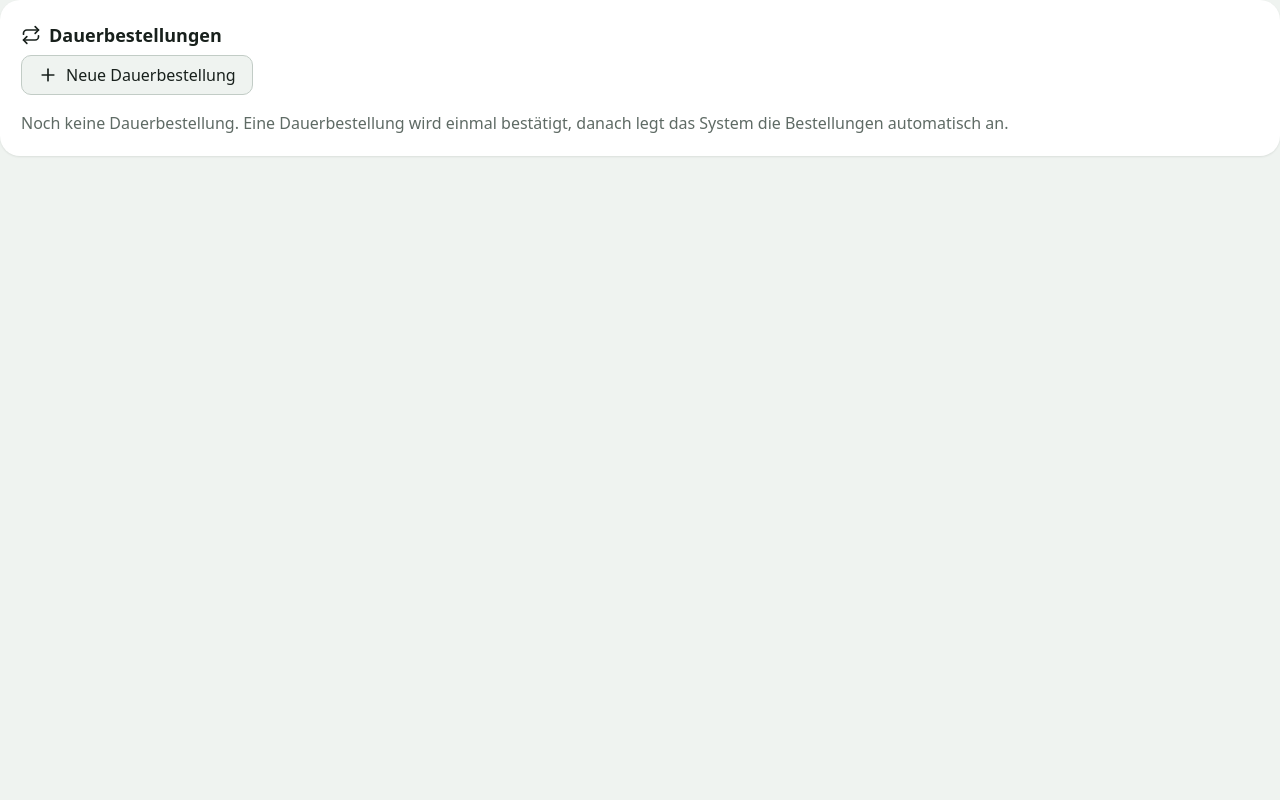
Test case: RecurringOrdersCard (NUD-149, NUD-171) › refuses a rule without any delivery day and names the monthly pattern as the way out
The image size is (1280, 800).
Click the button with test id "recurring-new". click: (137, 75)
box: [21, 55, 253, 95]
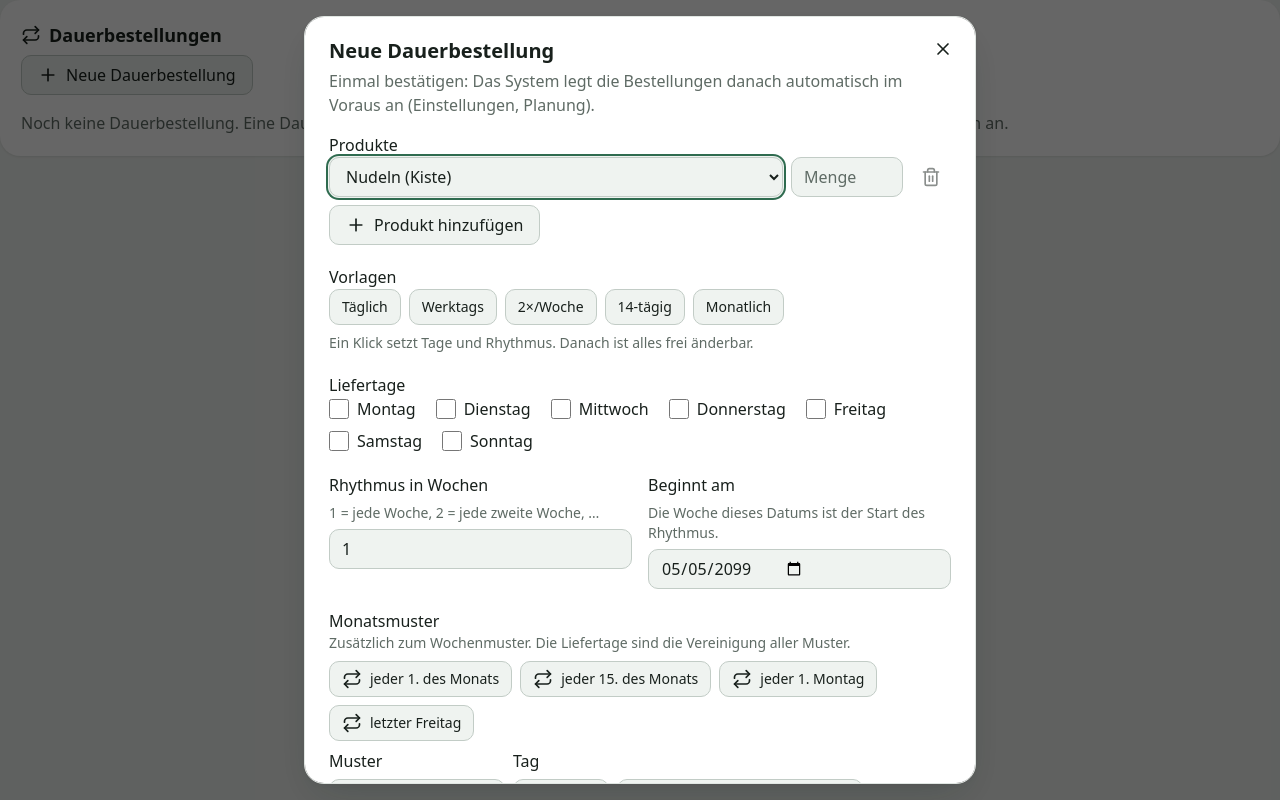
Select "Nudeln (Kiste)" in the dropdown with test id "recurring-line-product". click: (556, 177)
box: [329, 157, 783, 197]
Type "2" into the field with test id "recurring-line-quantity". click: (847, 177)
box: [791, 157, 903, 197]
(page scrolled)
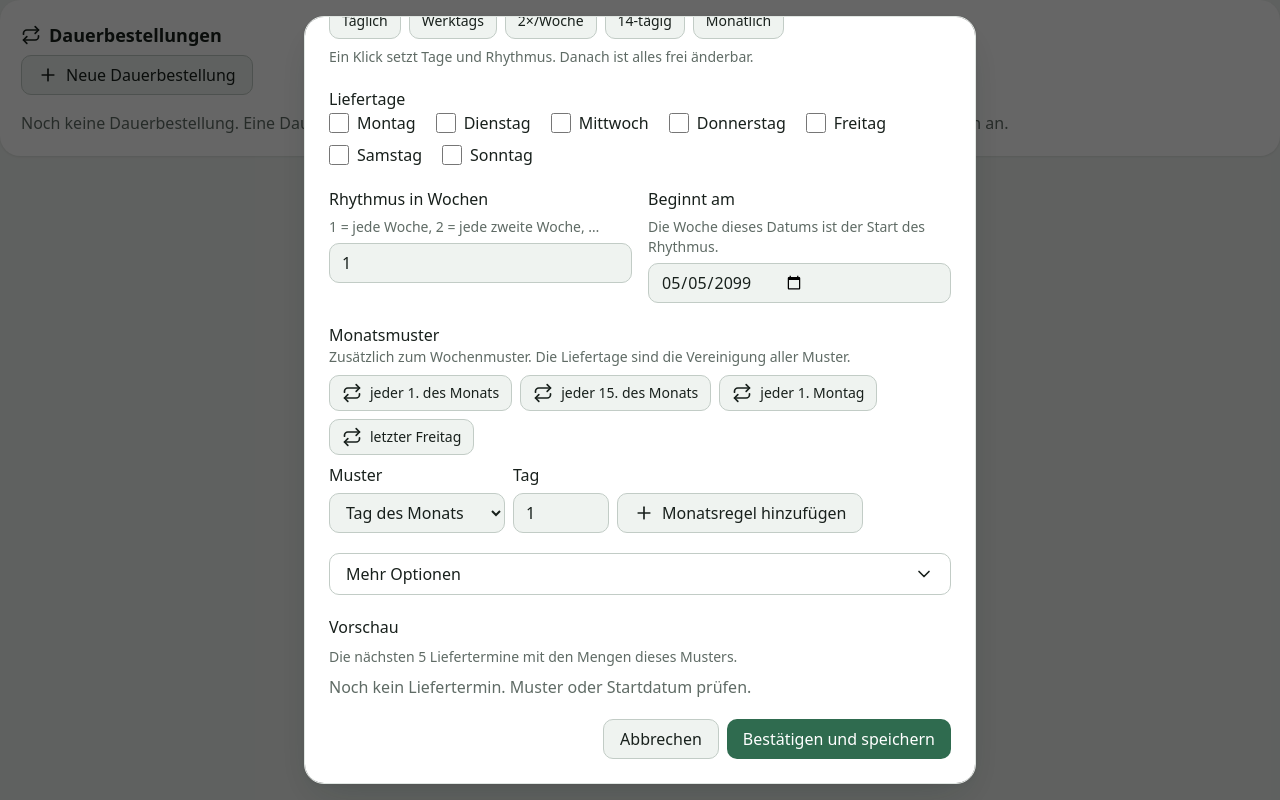
Click the button with test id "recurring-save". click: (839, 739)
box: [727, 719, 951, 759]
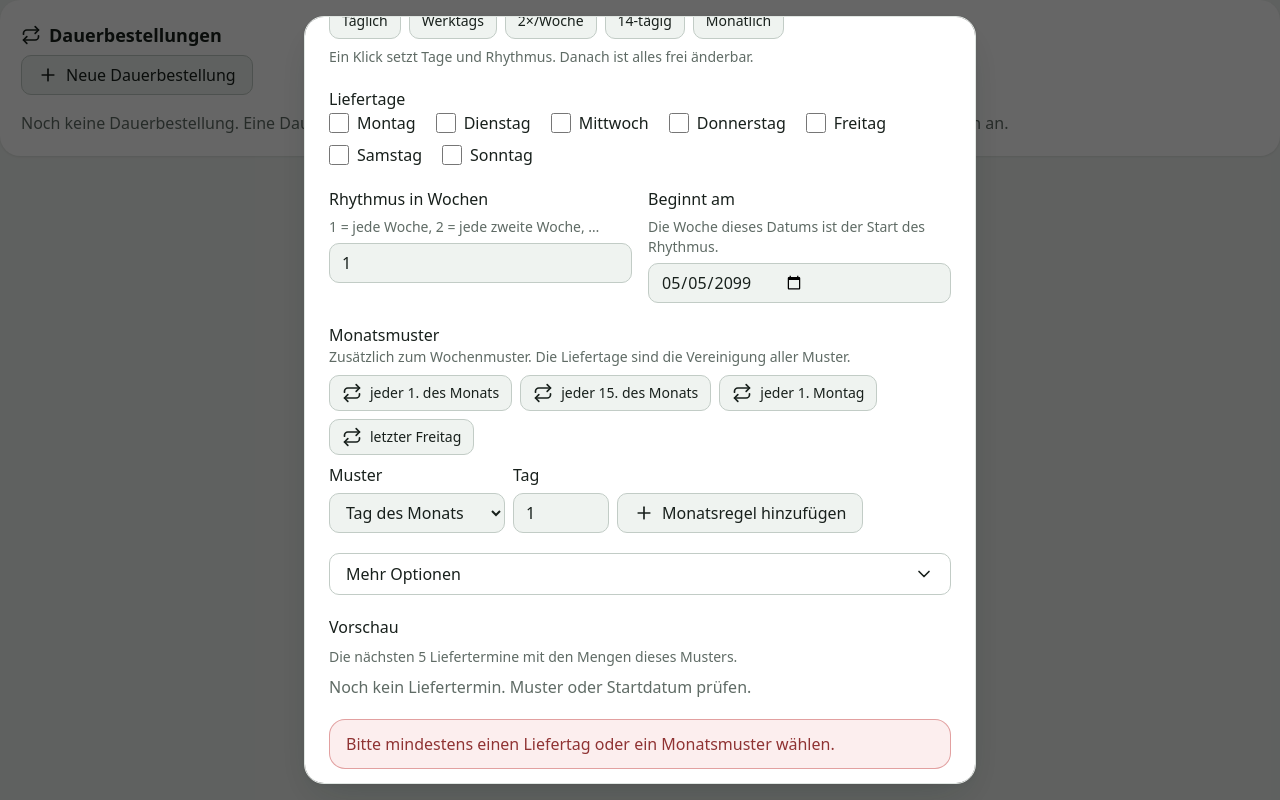
expect the message with test id "recurring-error" shows "Bitte mindestens einen Liefertag oder ein Monatsmuster": met, box [346, 733, 835, 755]
